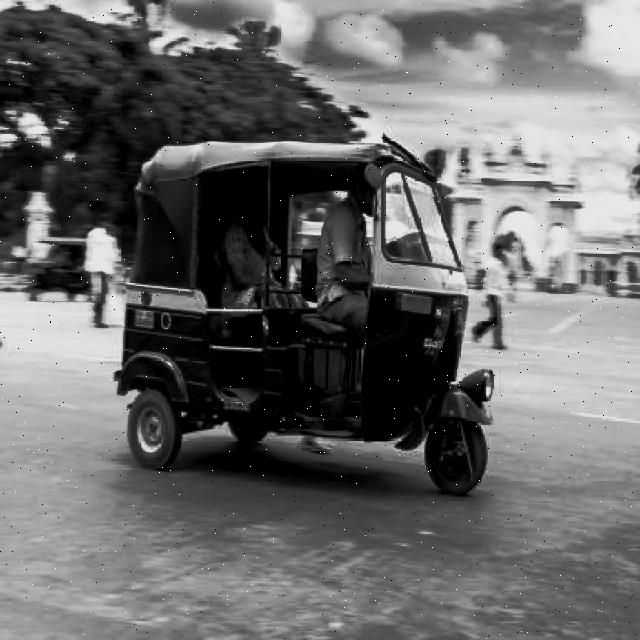Auto-Rickshaw: (113, 134, 494, 518)
